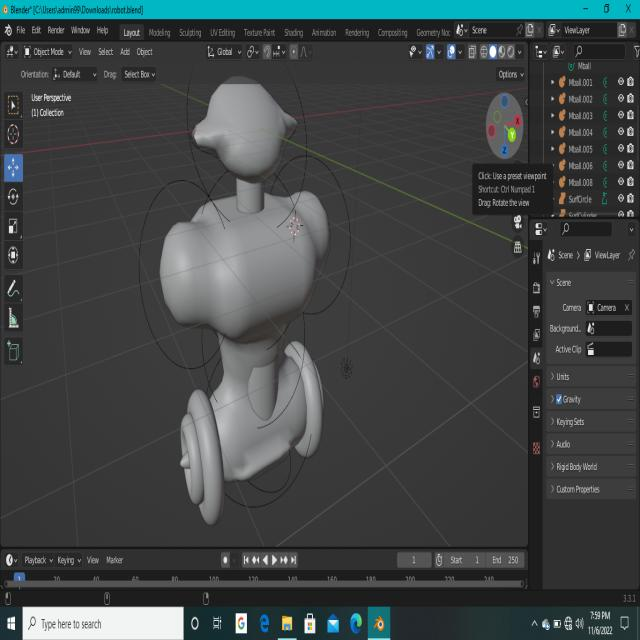man: (164, 70, 348, 535)
